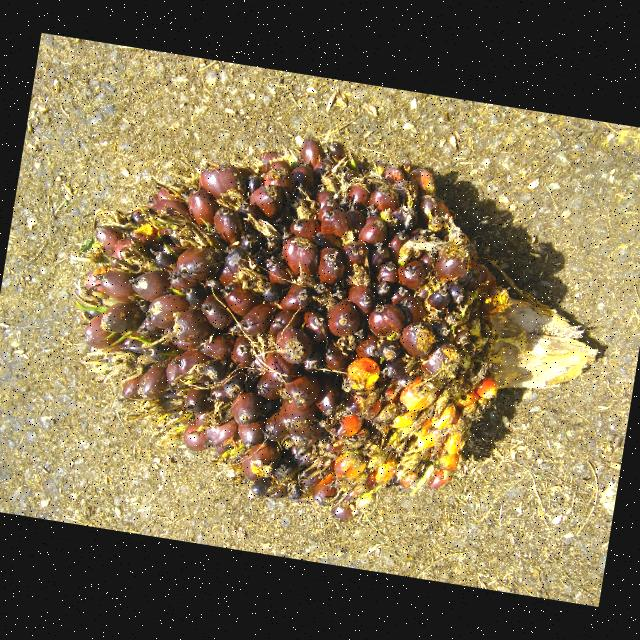Unripe: (90, 135, 496, 503)
